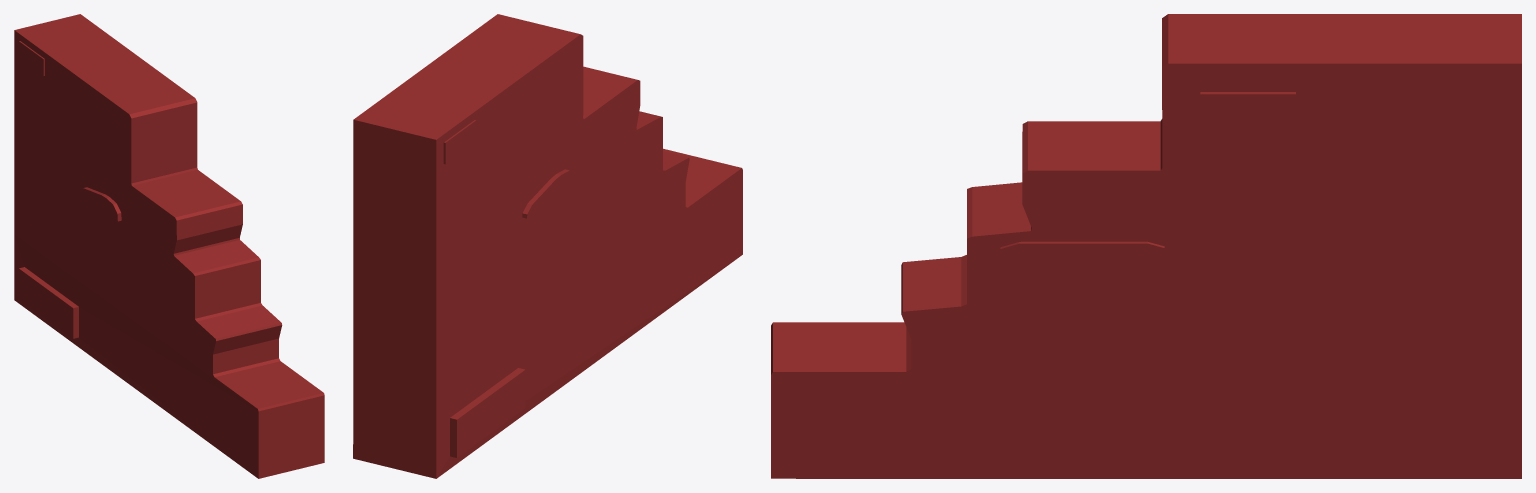
The model's file is SM_C_WallStraight_01.fbx.
The picture shows the model from 3 angles, left to right: view 1: azimuth 30°, elevation 25°; view 2: azimuth 150°, elevation 25°; view 3: azimuth 270°, elevation 25°; orthographic projection. The views are drawn at different scales.
Parts seen in each view (by area): view 1: SM_C_WallStraight_01; view 2: SM_C_WallStraight_01; view 3: SM_C_WallStraight_01.
Boxes of the visible parts, x1=… form: SM_C_WallStraight_01: x1=14, y1=14, x2=324, y2=478; SM_C_WallStraight_01: x1=353, y1=14, x2=742, y2=478; SM_C_WallStraight_01: x1=771, y1=14, x2=1521, y2=478.
Bounding box in the file's own units: 142 × 487 × 798.
